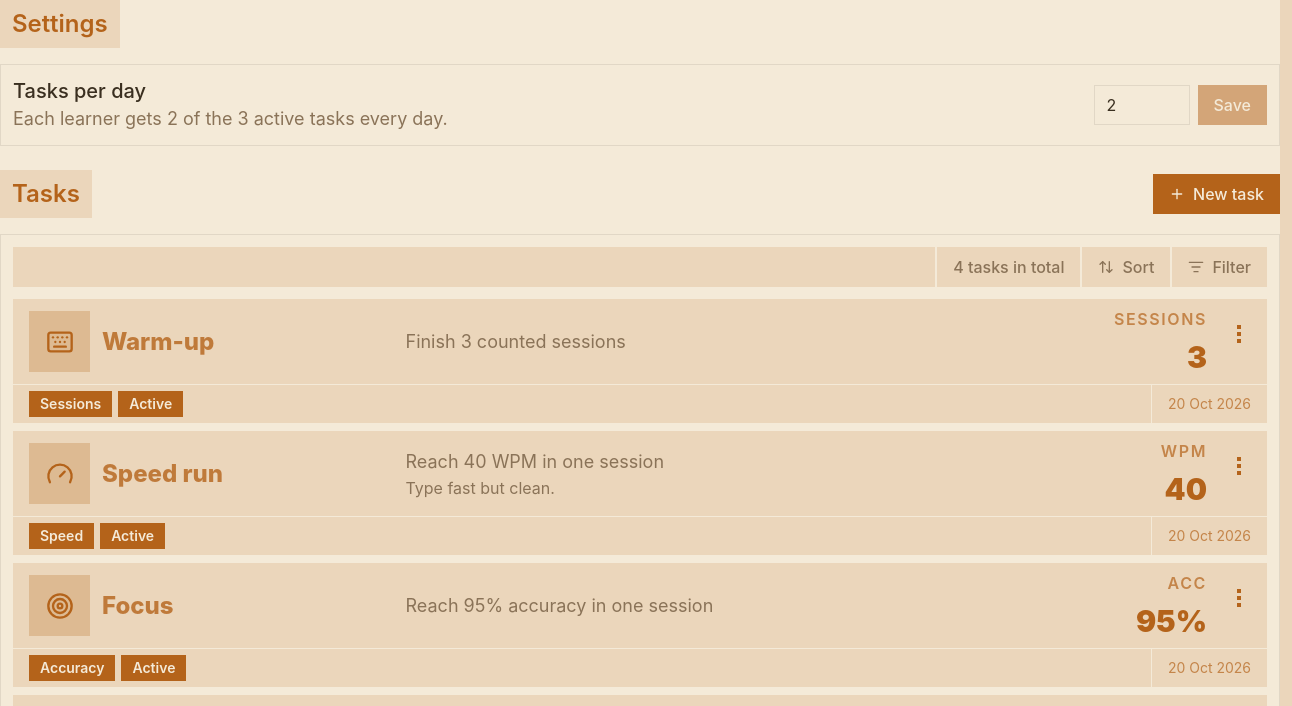
AdminDailyTasksPage › saves a new number of tasks per day
The image size is (1292, 706).
Replace the text in the number field labelled "Tasks per day" with "5" at [1142, 105], box [1094,85,1190,125]
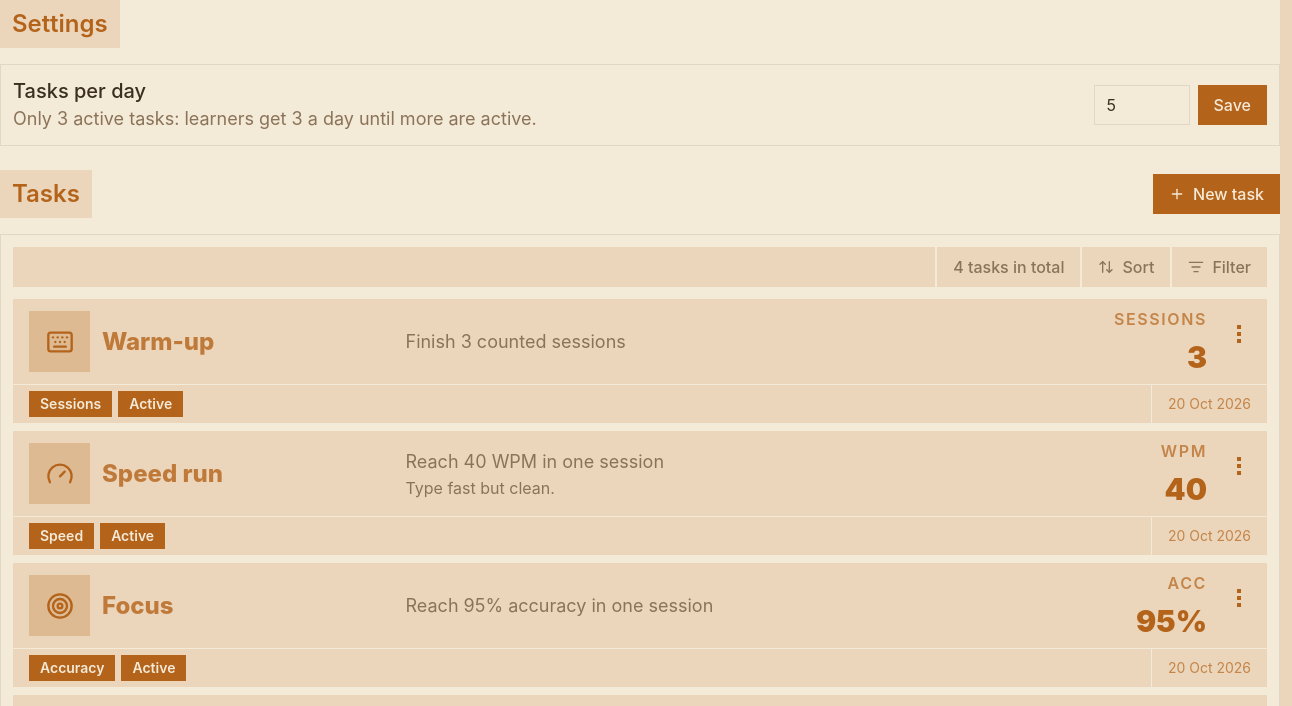
Expected: the text "Only 3 active tasks: learners get 3 a day until more are active." is shown, [13,105,537,133]
Click the button "Save" at [1232, 105], box [1198,85,1267,125]
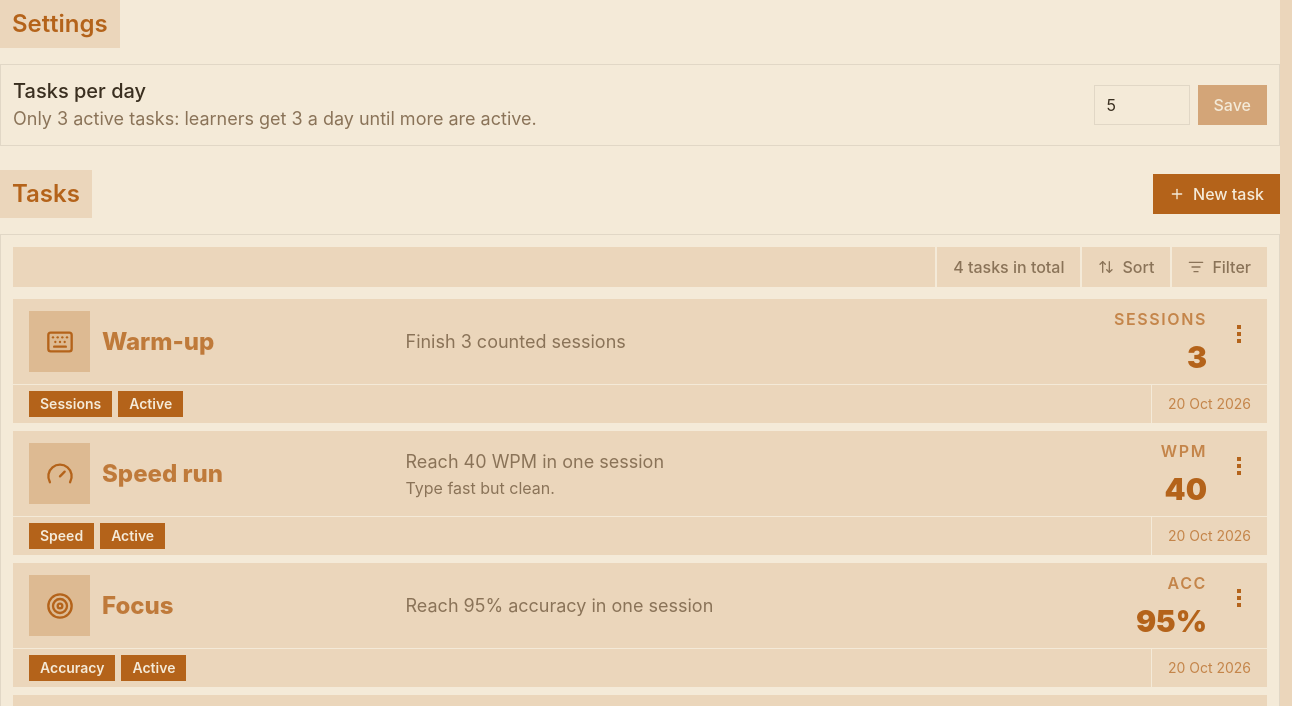
Expected: the number field labelled "Tasks per day" holds "5", [1094,85,1190,125]
Expected: the button "Save" is disabled, [1198,85,1267,125]
